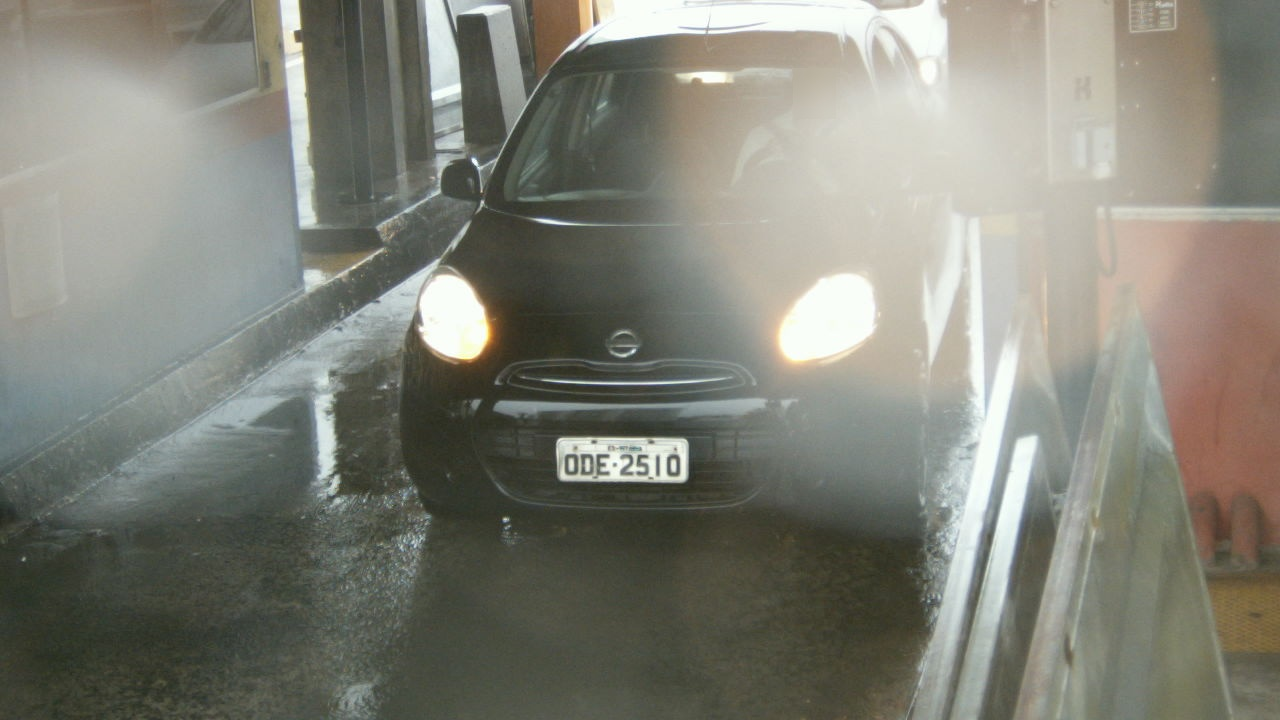license_plate: (558, 438, 687, 482)
